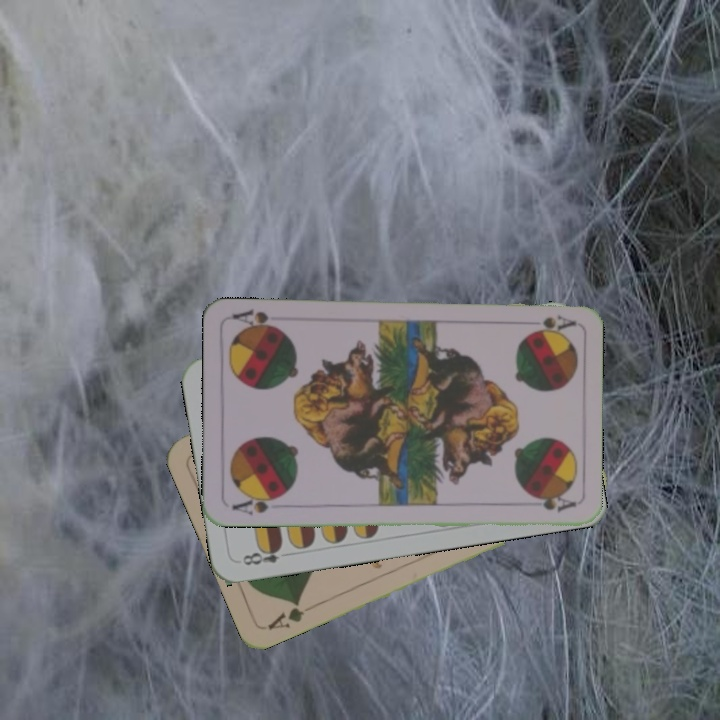E8: (238, 540, 294, 568)
GA: (263, 596, 307, 632)
SA: (228, 491, 286, 518), (527, 311, 577, 334)
